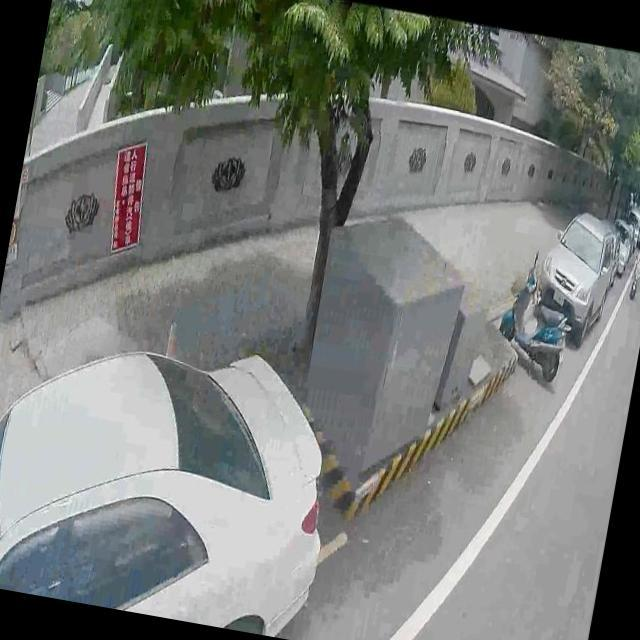person: (633, 246, 640, 269)
